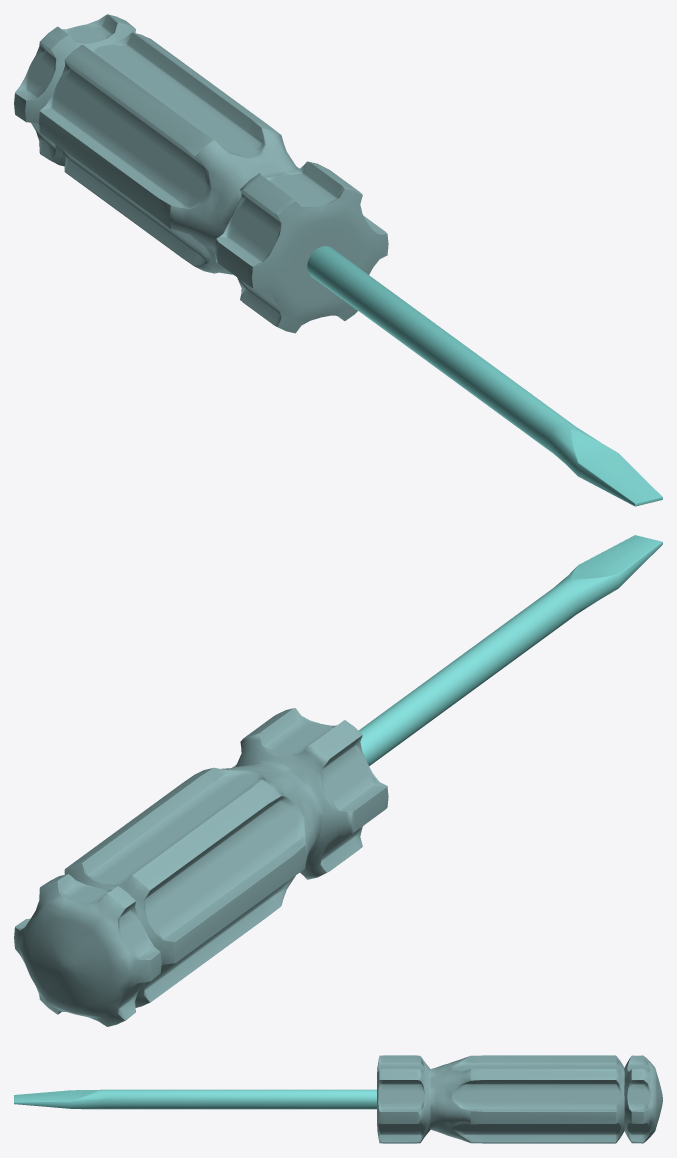
The picture shows the model from 3 angles, top to bottom: view 1: azimuth 30°, elevation 25°; view 2: azimuth 150°, elevation 25°; view 3: azimuth 270°, elevation 25°; orthographic projection. The views are drawn at different scales.
Parts seen in each view (by area): view 1: polySurface24_lambert1_0, polySurface24_lambert1_0.439; view 2: polySurface24_lambert1_0, polySurface24_lambert1_0.439; view 3: polySurface24_lambert1_0, polySurface24_lambert1_0.439.
Part boxes in pixels (x1,y1,x2,y2): polySurface24_lambert1_0: (14, 14, 388, 333); polySurface24_lambert1_0.439: (307, 246, 662, 506); polySurface24_lambert1_0: (14, 708, 388, 1026); polySurface24_lambert1_0.439: (358, 535, 662, 766); polySurface24_lambert1_0: (377, 1055, 662, 1143); polySurface24_lambert1_0.439: (14, 1089, 376, 1109).
Size of the model in its own units: 0.1356 by 0.1267 by 1.
